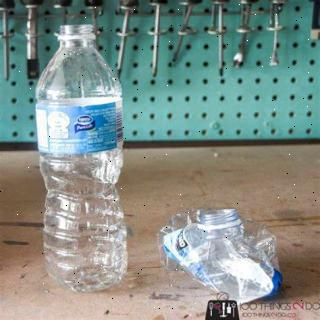Plastic-bottle: (30, 21, 138, 293), (149, 196, 289, 308)
